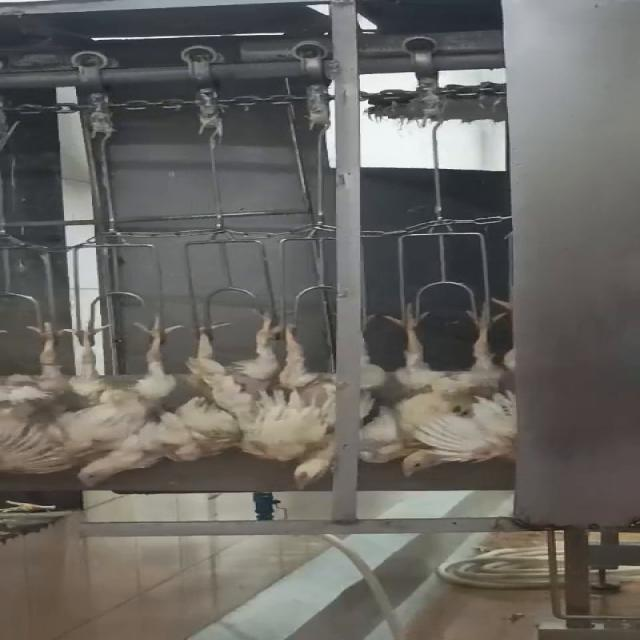chicken: (364, 300, 494, 478), (59, 313, 181, 494), (182, 312, 294, 456), (0, 319, 67, 481), (276, 316, 334, 494), (485, 294, 523, 465)
